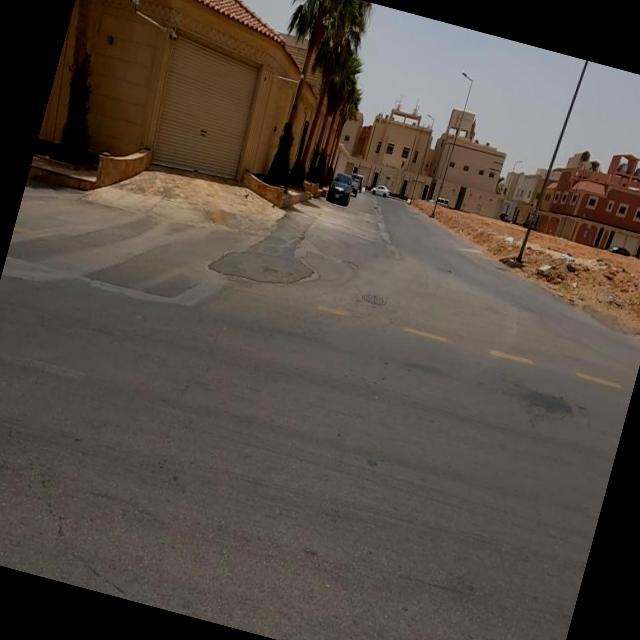debris: (493, 218, 587, 314), (538, 206, 616, 311), (472, 200, 539, 272)
